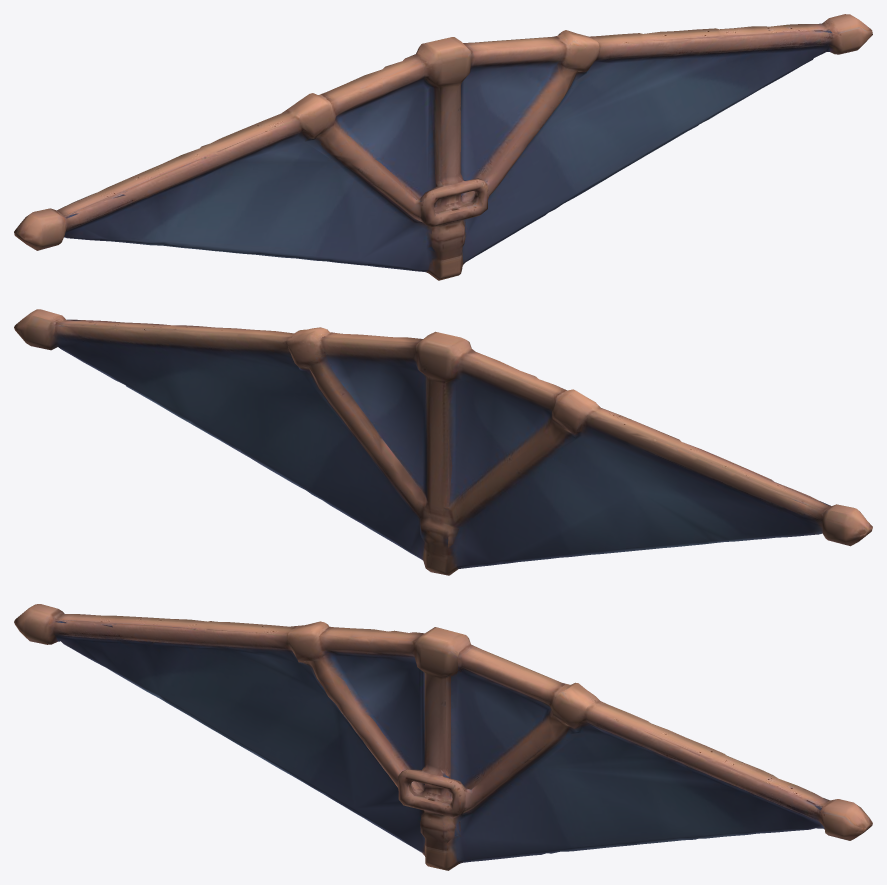
The model's file is kestrel_piece-DE6RKGp8.glb.
3 renders of one model, top to bottom at view 1: azimuth 30°, elevation 25°; view 2: azimuth 150°, elevation 25°; view 3: azimuth 330°, elevation 25°, orthographic.
Parts seen in each view (by area): view 1: kestrel_piece; view 2: kestrel_piece; view 3: kestrel_piece.
Boxes of the visible parts, left/top/right/bottom form: kestrel_piece: left=14, top=14, right=872, bottom=280; kestrel_piece: left=14, top=309, right=872, bottom=575; kestrel_piece: left=14, top=604, right=872, bottom=870.
Bounding box in the file's own units: 2.8 × 0.729 × 0.14.
Materials: 1 (1 with a texture image).
